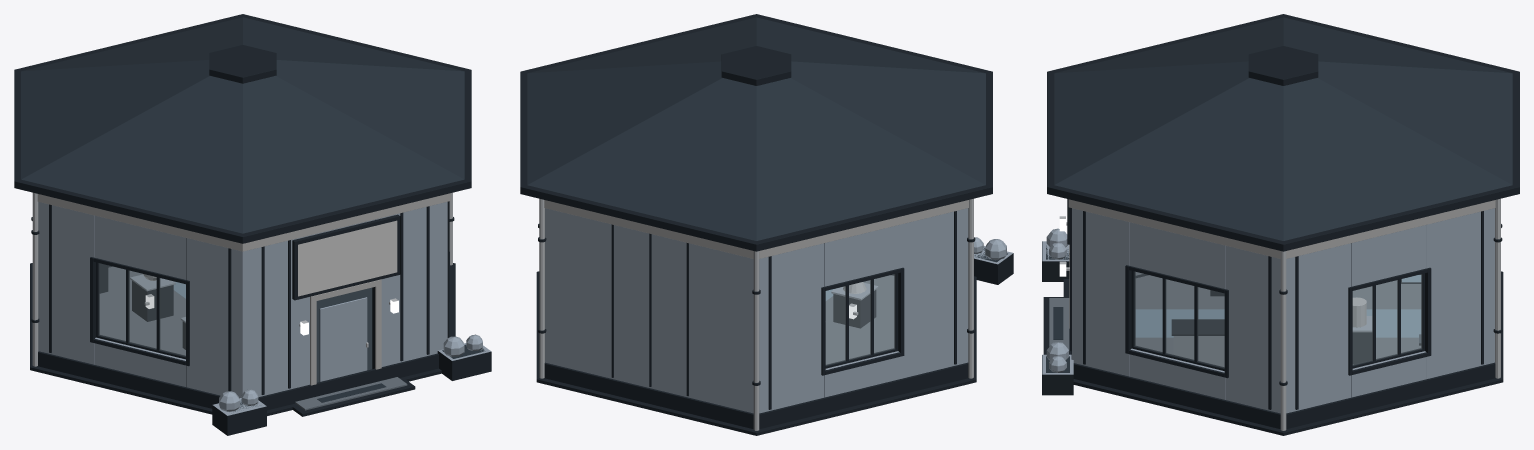
The model's file is rival2_v1.glb.
3 renders of one model, left to right at view 1: azimuth 30°, elevation 25°; view 2: azimuth 150°, elevation 25°; view 3: azimuth 270°, elevation 25°, orthographic. The views are drawn at different scales.
Visible parts, largest first — view 1: SM_rival2_v1_Shell, SM_rival2_v1_Sign, SM_rival2_v1_Door; view 2: SM_rival2_v1_Shell; view 3: SM_rival2_v1_Shell.
Part boxes in pixels (x1,y1,x2,y2): SM_rival2_v1_Shell: [14, 14, 491, 435]; SM_rival2_v1_Sign: [298, 220, 397, 296]; SM_rival2_v1_Door: [316, 287, 372, 382]; SM_rival2_v1_Shell: [520, 14, 1013, 435]; SM_rival2_v1_Shell: [1042, 14, 1519, 435].
Size of the model in its own units: 13.84 by 7.56 by 12.11.
